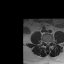CCS_normal: (47, 40, 48, 46)
LFS_normal: (50, 40, 51, 44)
LLS_normal: (48, 40, 50, 46)
RFS_normal: (44, 39, 45, 45)
RLS_normal: (45, 40, 47, 46)
